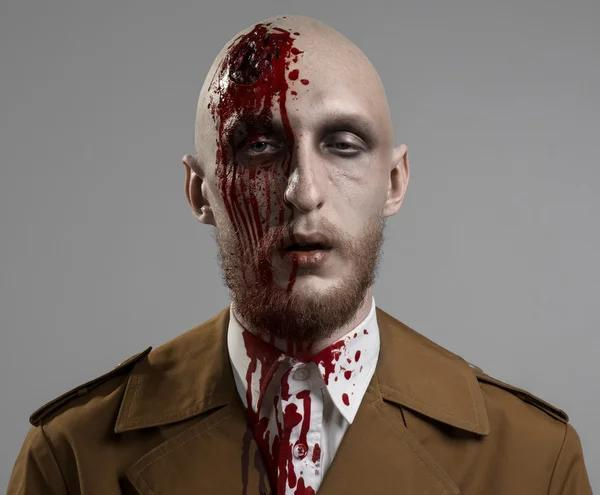Fire: (208, 23, 367, 495)
